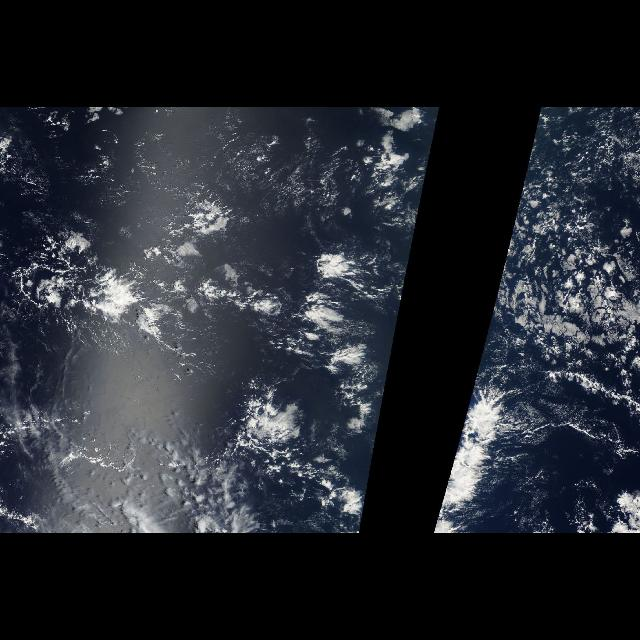Flower: (247, 241, 375, 377)
Sugar: (172, 111, 338, 195)
